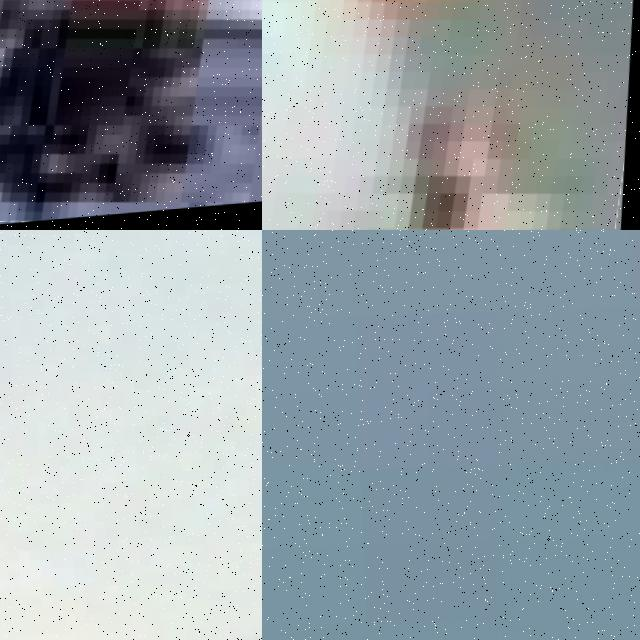0: (0, 0, 262, 230)
drone: (262, 0, 640, 230)
